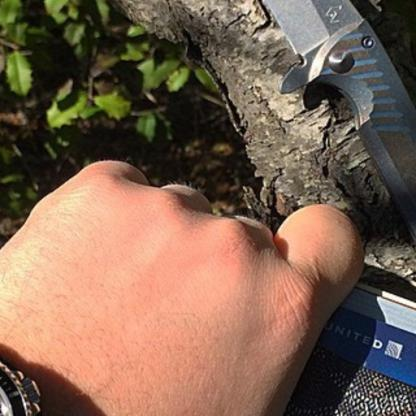knife: (168, 0, 416, 340)
